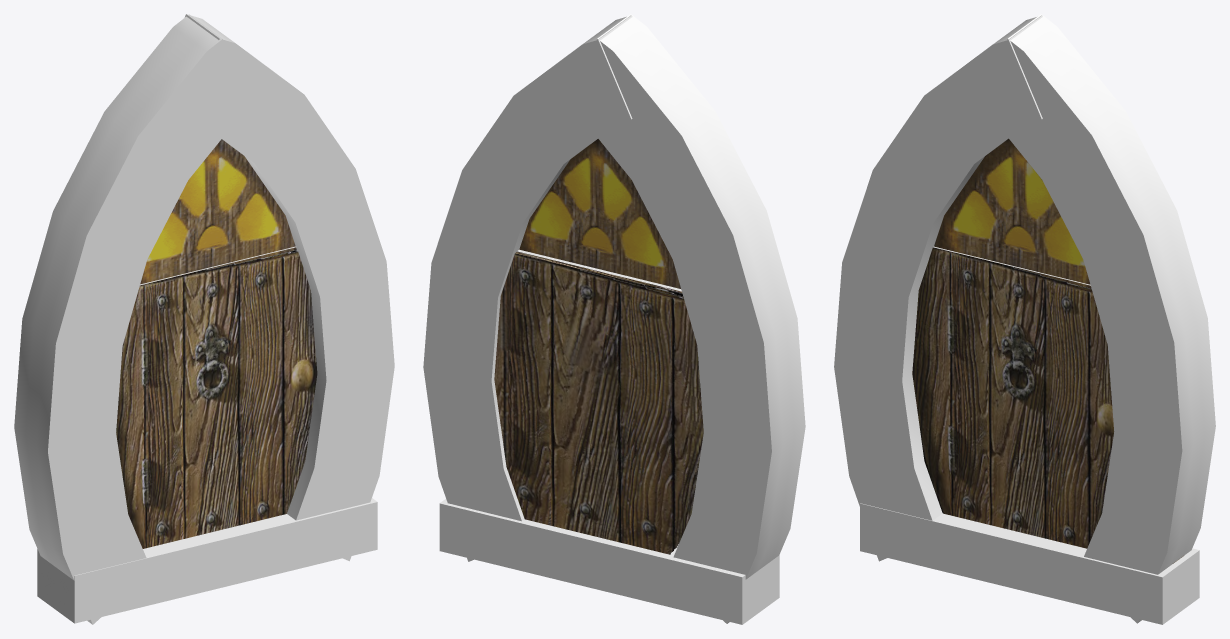
The model's file is elven door.dae.
The picture shows the model from 3 angles, left to right: view 1: azimuth 30°, elevation 25°; view 2: azimuth 150°, elevation 25°; view 3: azimuth 330°, elevation 25°; orthographic projection.
Parts seen in each view (by area): view 1: prim2, prim3, prim1, prim5, prim4; view 2: prim2, prim0, prim1, prim5, prim4, prim3; view 3: prim1, prim3, prim2, prim5, prim4.
Part boxes in pixels (x1,y1,x2,y2): prim2: (14,14,255,624); prim3: (116,246,317,548); prim1: (184,14,394,561); prim5: (37,498,377,623); prim4: (140,139,296,284); prim2: (597,14,805,623); prim0: (494,252,703,554); prim1: (423,15,632,561); prim5: (439,499,779,624); prim4: (519,139,680,288); prim3: (517,249,683,298); prim1: (1007,14,1215,623); prim3: (912,246,1114,548); prim2: (834,15,1042,561); prim5: (860,503,1199,624); prim4: (934,138,1091,288).
Bounding box in the file's own units: 0.7835 × 0.1453 × 1.19.
